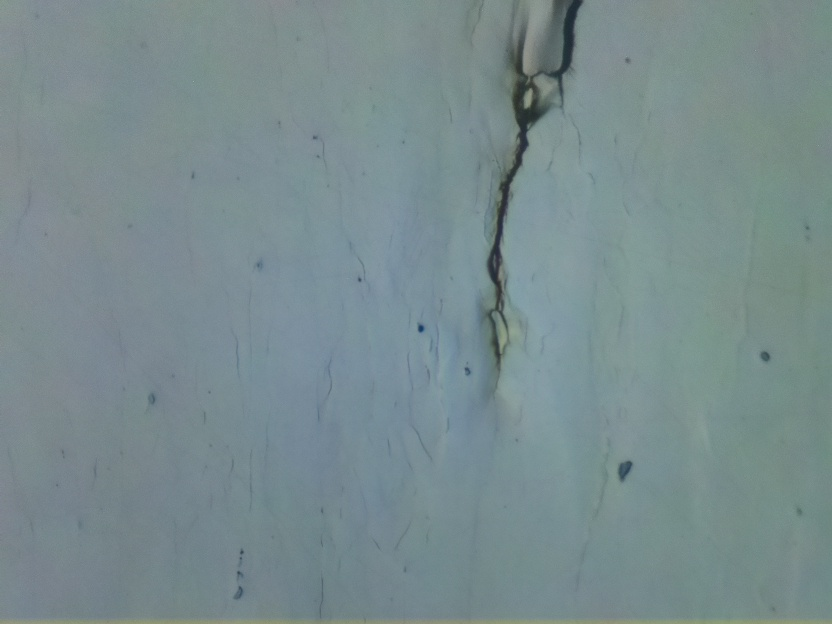crack: (487, 0, 578, 385)
